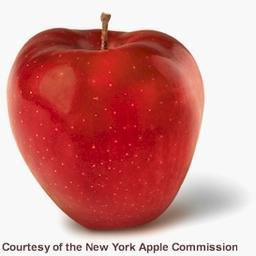apple: (6, 24, 204, 234)
